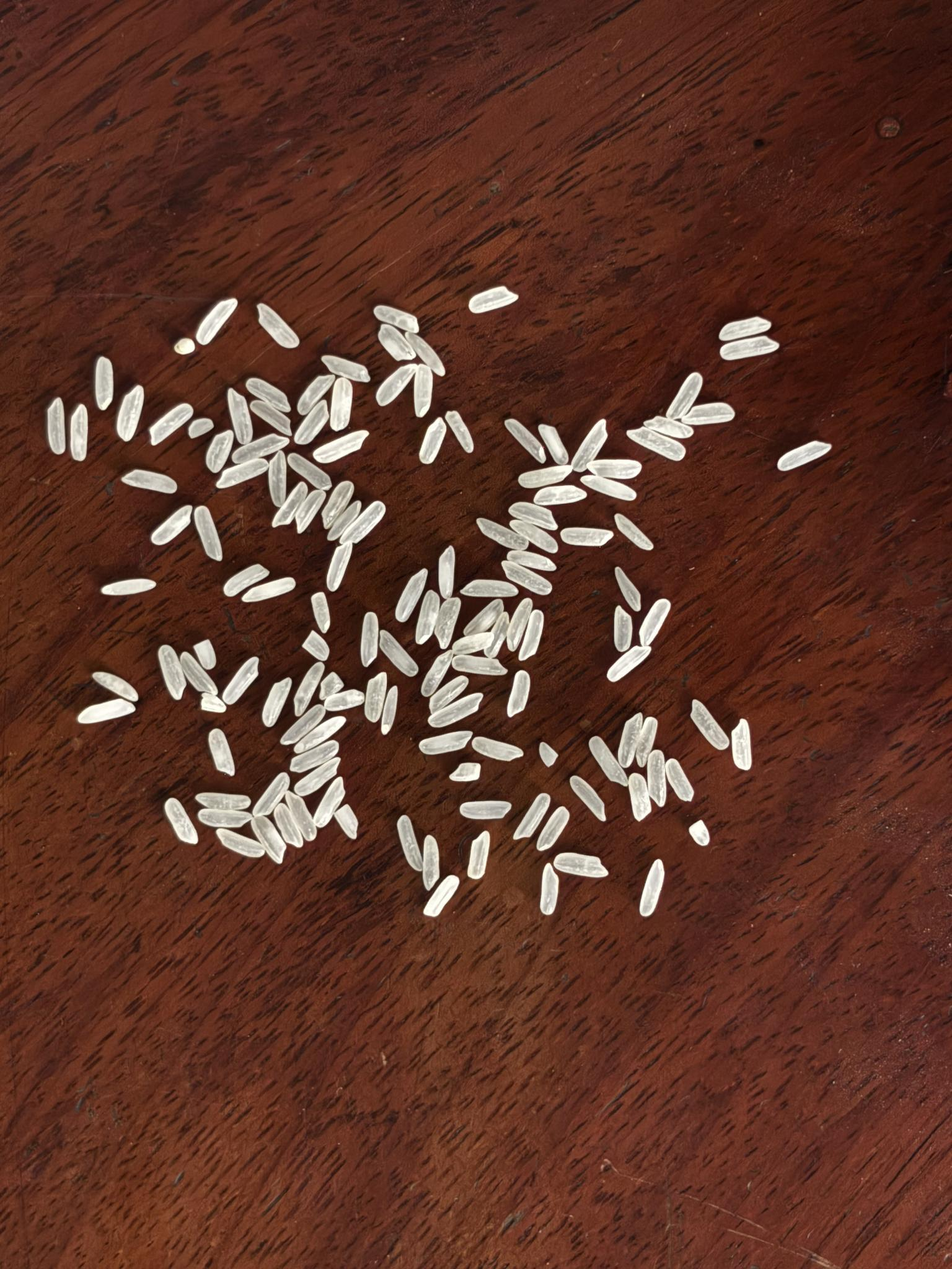Rice-th-y-nh: (339, 500, 387, 544), (570, 419, 608, 474), (148, 402, 195, 446), (195, 298, 239, 345), (627, 426, 686, 461), (689, 700, 729, 750), (505, 417, 547, 464), (378, 629, 418, 678), (374, 362, 417, 407), (257, 303, 299, 349), (428, 693, 483, 728), (502, 559, 553, 596), (222, 656, 261, 704), (588, 736, 627, 784), (406, 332, 447, 377), (294, 757, 340, 797), (476, 518, 530, 552), (665, 372, 703, 420), (314, 431, 369, 463), (280, 705, 325, 744), (570, 775, 607, 822), (513, 793, 550, 840), (231, 433, 287, 464), (292, 661, 324, 715), (150, 506, 193, 546), (394, 569, 427, 621), (606, 644, 651, 682), (776, 440, 831, 471), (250, 816, 287, 862), (215, 457, 268, 489), (320, 480, 355, 528), (179, 651, 218, 694), (510, 520, 559, 554), (287, 453, 332, 490), (272, 482, 308, 528), (313, 778, 346, 828), (193, 506, 223, 561), (290, 740, 340, 773), (419, 650, 454, 697), (222, 563, 269, 598), (582, 472, 636, 502), (296, 374, 335, 415), (299, 717, 346, 751), (253, 773, 289, 817), (293, 401, 329, 445), (508, 500, 559, 531), (246, 377, 291, 412), (241, 576, 297, 604), (505, 597, 534, 651), (433, 597, 462, 651), (325, 500, 362, 542), (284, 792, 317, 839), (395, 816, 423, 871), (117, 386, 145, 441), (721, 334, 780, 360), (638, 599, 671, 645), (164, 798, 197, 844), (428, 675, 469, 712), (463, 599, 504, 636), (158, 644, 186, 698), (250, 401, 293, 436), (536, 807, 570, 851), (261, 678, 292, 726), (423, 876, 459, 917), (639, 861, 665, 917), (321, 354, 371, 383), (614, 513, 653, 550), (378, 323, 415, 362), (227, 389, 253, 444), (468, 285, 517, 314), (325, 542, 354, 591), (77, 699, 136, 723), (92, 671, 139, 701), (415, 590, 441, 644), (328, 378, 354, 432), (272, 803, 303, 848), (122, 469, 177, 494), (216, 829, 263, 858), (664, 757, 694, 802), (294, 490, 326, 532), (372, 305, 420, 333), (518, 464, 571, 489), (617, 714, 642, 767), (587, 457, 642, 481), (208, 728, 236, 775), (518, 611, 544, 661), (554, 853, 608, 877), (419, 418, 447, 464), (266, 451, 289, 507), (645, 414, 694, 440), (682, 402, 735, 426), (539, 423, 569, 465), (445, 410, 474, 453), (196, 791, 250, 814), (719, 317, 770, 341), (614, 567, 641, 612), (646, 750, 668, 805), (205, 430, 233, 473), (472, 737, 522, 761), (69, 405, 90, 462), (419, 732, 472, 754), (412, 364, 434, 417), (46, 398, 67, 453), (506, 549, 556, 572), (364, 672, 387, 722), (93, 357, 115, 409), (452, 655, 506, 676), (560, 526, 614, 547), (628, 774, 652, 821), (635, 717, 658, 766), (462, 579, 518, 599), (507, 671, 531, 717), (731, 719, 752, 771), (534, 485, 586, 506), (485, 614, 509, 659), (360, 612, 380, 665), (199, 808, 251, 828), (468, 832, 489, 880), (101, 578, 156, 596), (460, 800, 512, 819), (453, 631, 494, 655), (422, 836, 439, 890), (438, 547, 456, 597), (540, 866, 558, 915), (324, 689, 364, 711), (381, 686, 399, 733), (302, 630, 330, 660), (614, 606, 632, 652), (311, 592, 331, 633), (335, 805, 358, 839), (319, 673, 343, 700), (449, 762, 481, 782), (194, 640, 216, 669), (689, 820, 710, 846), (188, 418, 214, 438), (201, 693, 226, 713), (538, 743, 558, 767)
